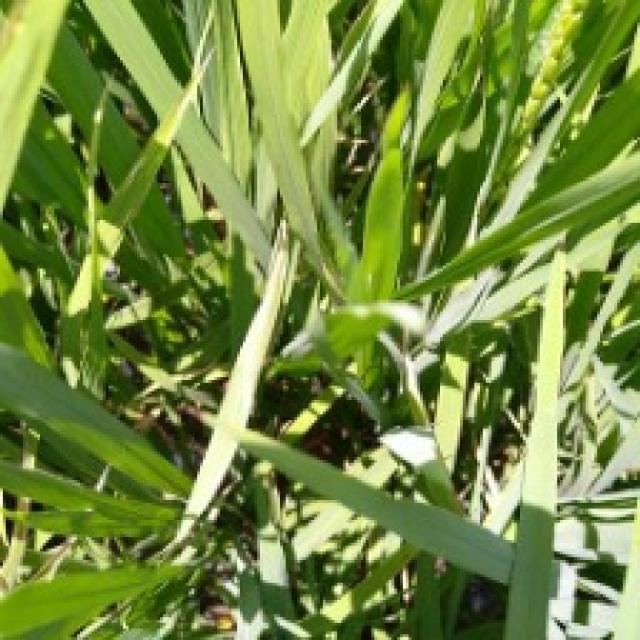Rice___Bacterial_Leaf_Blight: (157, 218, 288, 558), (505, 248, 567, 637)
